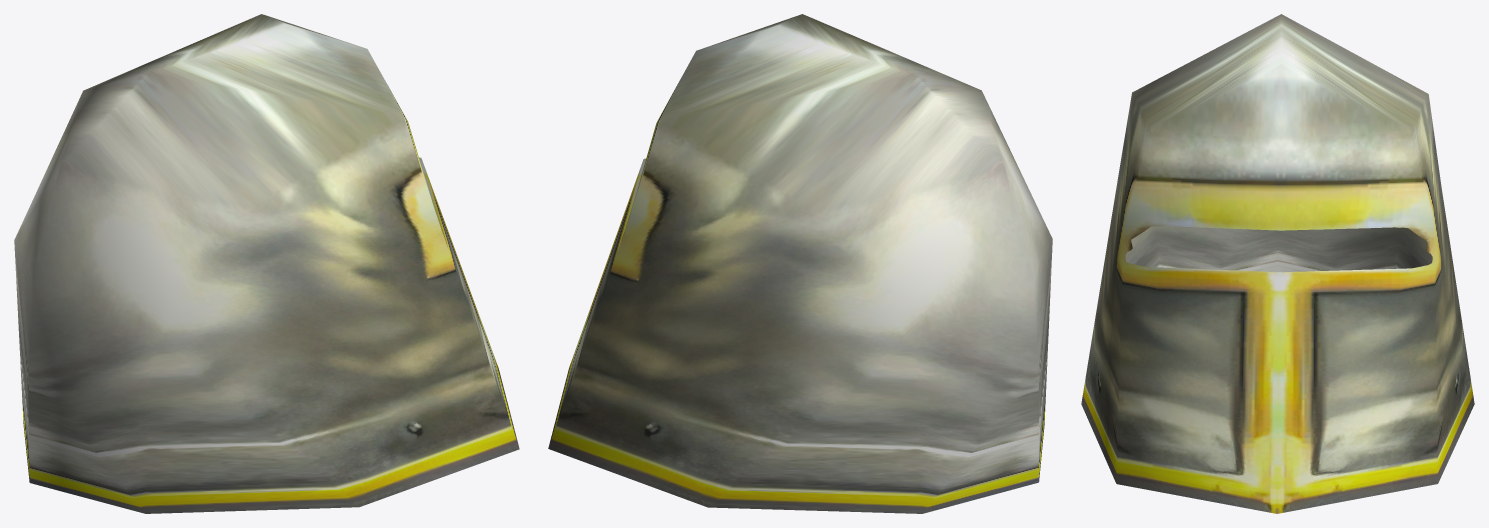
File: armorhelmtrim.obj
3 views of the same model, side by side, from view 1: azimuth 30°, elevation 25°; view 2: azimuth 150°, elevation 25°; view 3: azimuth 270°, elevation 25° (orthographic). The views are drawn at different scales.
Visible parts, largest first — view 1: armorhelmtrim; view 2: armorhelmtrim; view 3: armorhelmtrim.
Boxes of the visible parts, x1=… form: armorhelmtrim: x1=14, y1=14, x2=519, y2=513; armorhelmtrim: x1=548, y1=14, x2=1052, y2=513; armorhelmtrim: x1=1081, y1=14, x2=1474, y2=513.
Bounding box in the file's own units: 0.4228 × 0.3368 × 0.3365.
Materials: 1 (1 with a texture image).
